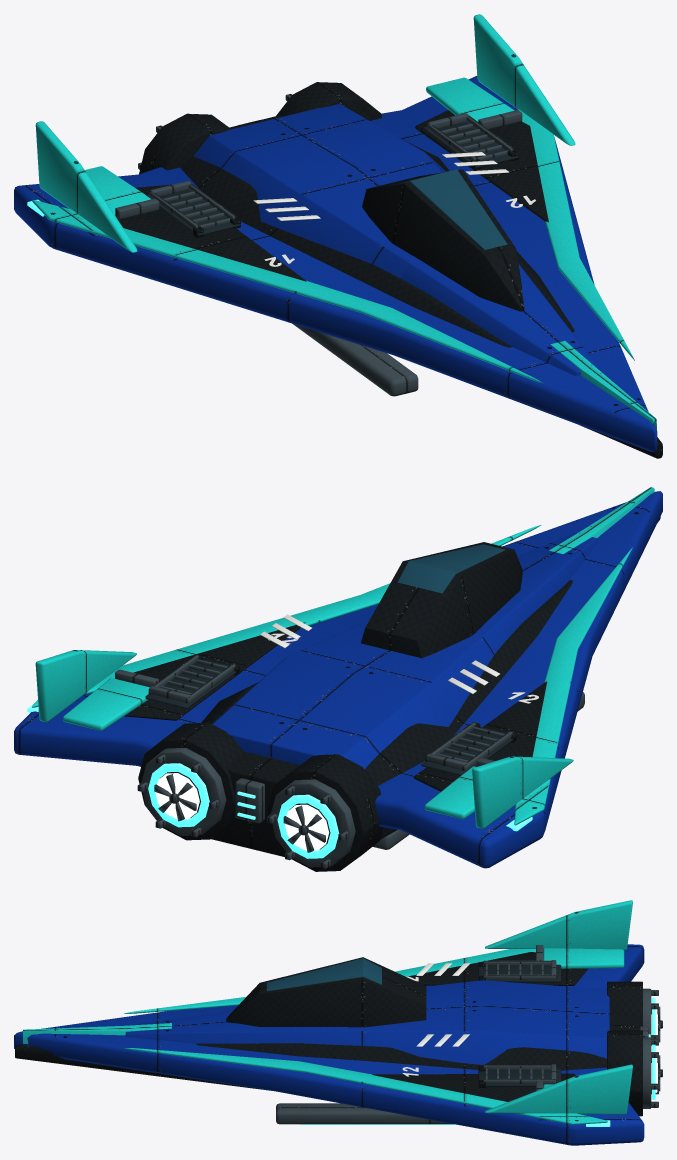
Rendered from manta-player.glb.
The picture shows the model from 3 angles, top to bottom: view 1: azimuth 30°, elevation 25°; view 2: azimuth 150°, elevation 25°; view 3: azimuth 270°, elevation 25°; orthographic projection. The views are drawn at different scales.
Parts seen in each view (by area): view 1: Surface Atlantic blue, Surface Carbon composite, Surface Glacier cyan, Surface Brushed titanium, Surface Polarised canopy, Mechanism airbrake_positive_x.001 Glacier cyan, Surface Intake shadow, Mechanism cooling_negative_x.001 Brushed titanium, Mechanism cooling_positive_x.001 Brushed titanium, Mechanism airbrake_negative_x.001 Glacier cyan, Surface Ivory graphics; view 2: Surface Atlantic blue, Surface Carbon composite, Surface Glacier cyan, Surface Brushed titanium, Surface Ion cyan, Mechanism airbrake_positive_x.001 Glacier cyan, Surface Polarised canopy, Surface Reactor white, Surface Intake shadow, Mechanism cooling_positive_x.001 Brushed titanium, Mechanism cooling_negative_x.001 Brushed titanium, Mechanism airbrake_negative_x.001 Glacier cyan (+3 smaller); view 3: Surface Atlantic blue, Surface Carbon composite, Surface Glacier cyan, Surface Brushed titanium, Surface Polarised canopy, Surface Intake shadow, Mechanism airbrake_negative_x.001 Glacier cyan, Mechanism cooling_negative_x.001 Brushed titanium, Mechanism cooling_positive_x.001 Brushed titanium, Surface Ivory graphics, Surface Ion cyan.
Boxes of the visible parts, x1,y1,x2,y2 form: Surface Atlantic blue: (14, 76, 657, 452); Surface Carbon composite: (117, 82, 662, 458); Surface Glacier cyan: (32, 14, 657, 431); Surface Brushed titanium: (115, 94, 522, 396); Surface Polarised canopy: (400, 169, 507, 249); Mechanism airbrake_positive_x.001 Glacier cyan: (426, 77, 514, 121); Surface Intake shadow: (146, 122, 518, 236); Mechanism cooling_negative_x.001 Brushed titanium: (149, 181, 236, 228); Mechanism cooling_positive_x.001 Brushed titanium: (427, 113, 514, 160); Mechanism airbrake_negative_x.001 Glacier cyan: (85, 166, 150, 217); Surface Ivory graphics: (253, 152, 535, 266); Surface Atlantic blue: (14, 491, 662, 868); Surface Carbon composite: (124, 517, 660, 871); Surface Glacier cyan: (32, 487, 654, 828); Surface Brushed titanium: (115, 669, 584, 868); Surface Ion cyan: (27, 704, 532, 858); Mechanism airbrake_positive_x.001 Glacier cyan: (63, 678, 149, 730); Surface Polarised canopy: (397, 544, 505, 593); Surface Reactor white: (155, 773, 329, 850); Surface Intake shadow: (145, 659, 512, 775); Mechanism cooling_positive_x.001 Brushed titanium: (148, 655, 235, 703); Mechanism cooling_negative_x.001 Brushed titanium: (425, 722, 512, 771); Mechanism airbrake_negative_x.001 Glacier cyan: (424, 766, 475, 819); Surface Atlantic blue: (14, 944, 644, 1145); Surface Carbon composite: (15, 952, 642, 1116); Surface Glacier cyan: (23, 900, 632, 1124); Surface Brushed titanium: (276, 945, 658, 1124); Surface Polarised canopy: (266, 958, 381, 991); Surface Intake shadow: (478, 964, 561, 1086); Mechanism airbrake_negative_x.001 Glacier cyan: (543, 948, 624, 968); Mechanism cooling_negative_x.001 Brushed titanium: (483, 960, 556, 979); Mechanism cooling_positive_x.001 Brushed titanium: (483, 1064, 556, 1083); Surface Ivory graphics: (402, 963, 470, 1076); Surface Ion cyan: (300, 997, 655, 1126).
Size of the model in its own units: 4.9 by 1.52 by 7.21.
Materials: 9 (4 with a texture image).
